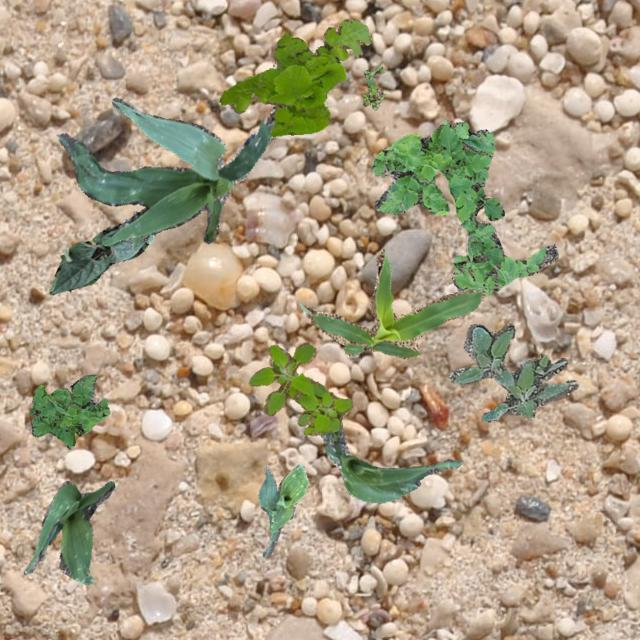crop: (56, 96, 276, 245), (298, 250, 484, 358), (319, 424, 462, 502), (23, 479, 114, 584), (48, 222, 148, 294), (258, 464, 308, 556)
weed: (370, 120, 558, 294), (218, 18, 370, 136), (448, 322, 576, 422), (248, 342, 352, 434), (28, 373, 108, 448), (362, 64, 384, 110), (130, 232, 154, 248)
